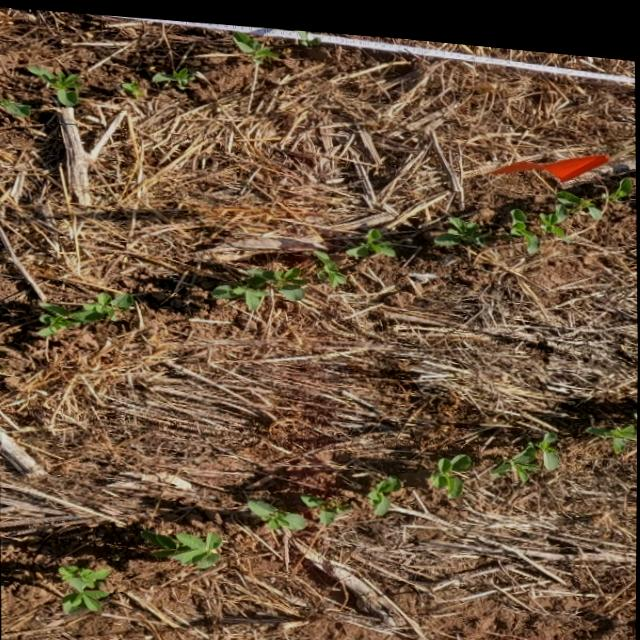soy_plant: (540, 164, 633, 227), (39, 289, 137, 335), (213, 261, 308, 303), (494, 419, 560, 470), (142, 527, 221, 563), (60, 562, 110, 610), (29, 64, 82, 109), (429, 443, 472, 488), (249, 494, 308, 523), (347, 220, 395, 254), (435, 207, 493, 235), (588, 408, 638, 439), (232, 27, 280, 59), (369, 466, 403, 507), (301, 487, 346, 516), (510, 198, 538, 240), (313, 245, 347, 278), (153, 64, 196, 85), (0, 99, 26, 115), (120, 77, 140, 92), (296, 23, 314, 37)
